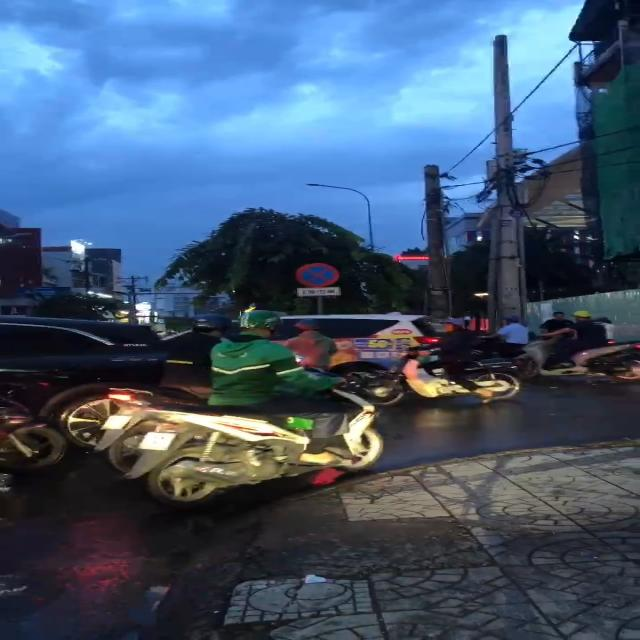Bien bao cam dung xe va do xe: (291, 261, 342, 289)
